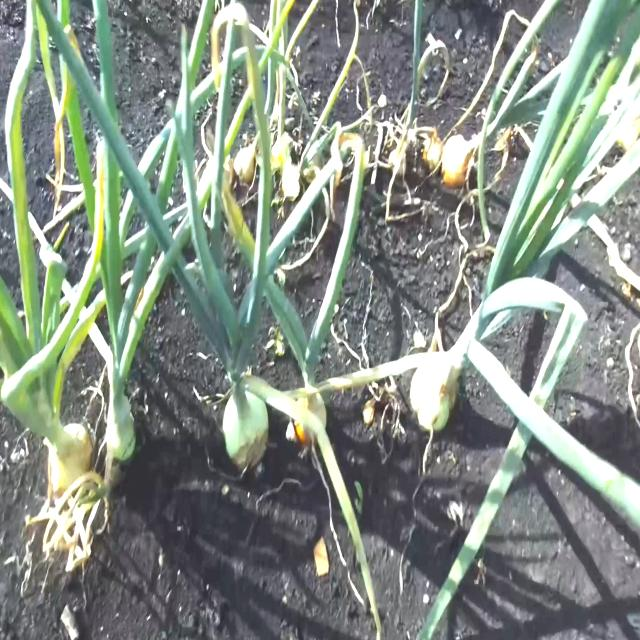onion: (406, 345, 457, 436), (222, 386, 269, 478), (51, 422, 95, 494), (440, 133, 475, 189), (236, 141, 262, 181)
